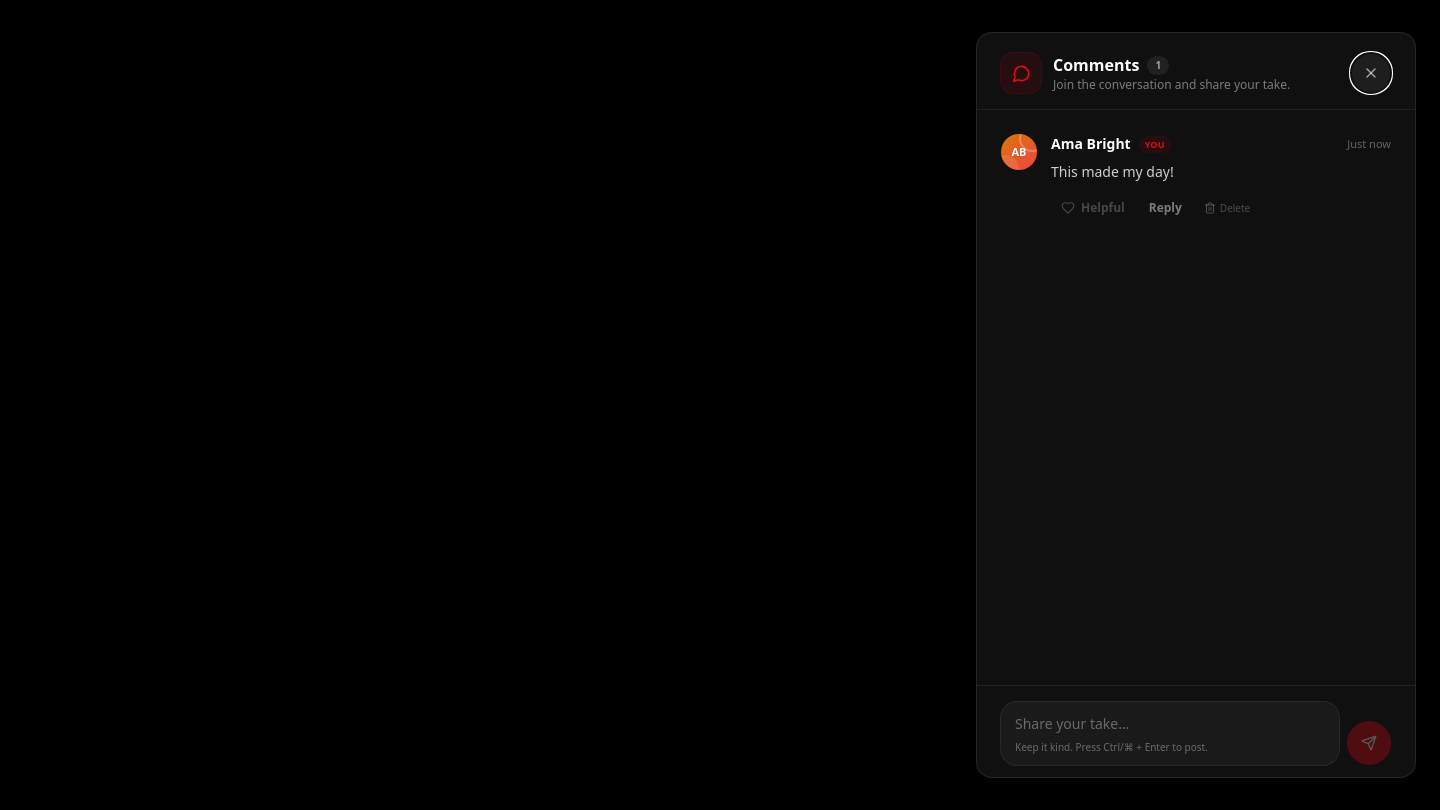
Scenario: CommentsSheet › starts an inline reply with an author mention and allows canceling it
The width and height of the screenshot is (1440, 810).
What coordinates should you click on to do the following:
click the button "Reply"
I would click on:
 (1165, 208)
Its box is [1139,196,1192,220].
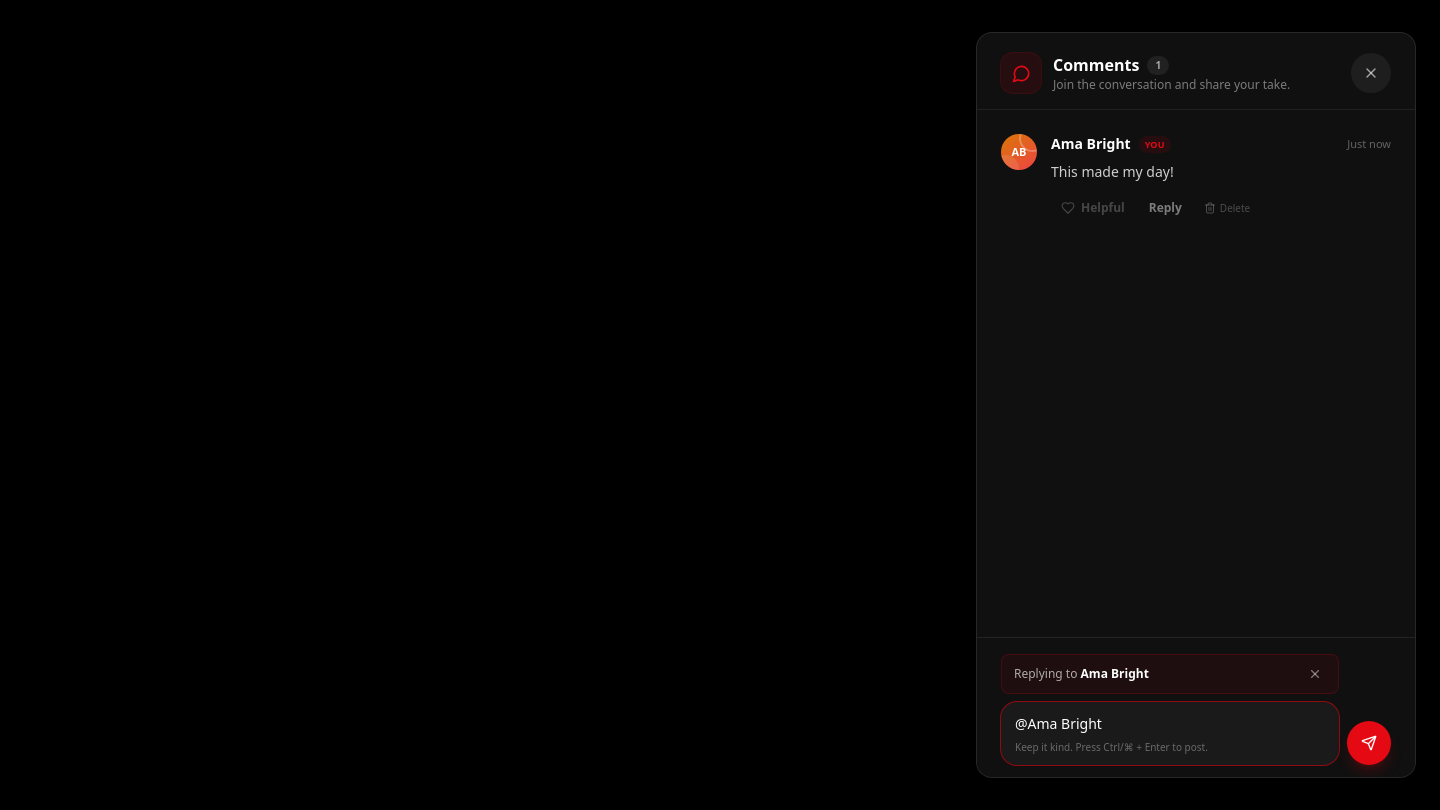
Check: the text "Ama Bright" in the row of "Just now" is shown, box [1051,134,1131,153]
Check: the text "Replying to" is shown, box [1014,665,1081,682]
Check: the text box named "Write a comment" holds "@Ama Bright ", box [1015,712,1325,736]
What coordinates should you click on to do the following:
click the button named "Cancel reply"
I would click on:
 (1315, 674)
Its box is [1304,663,1326,685].
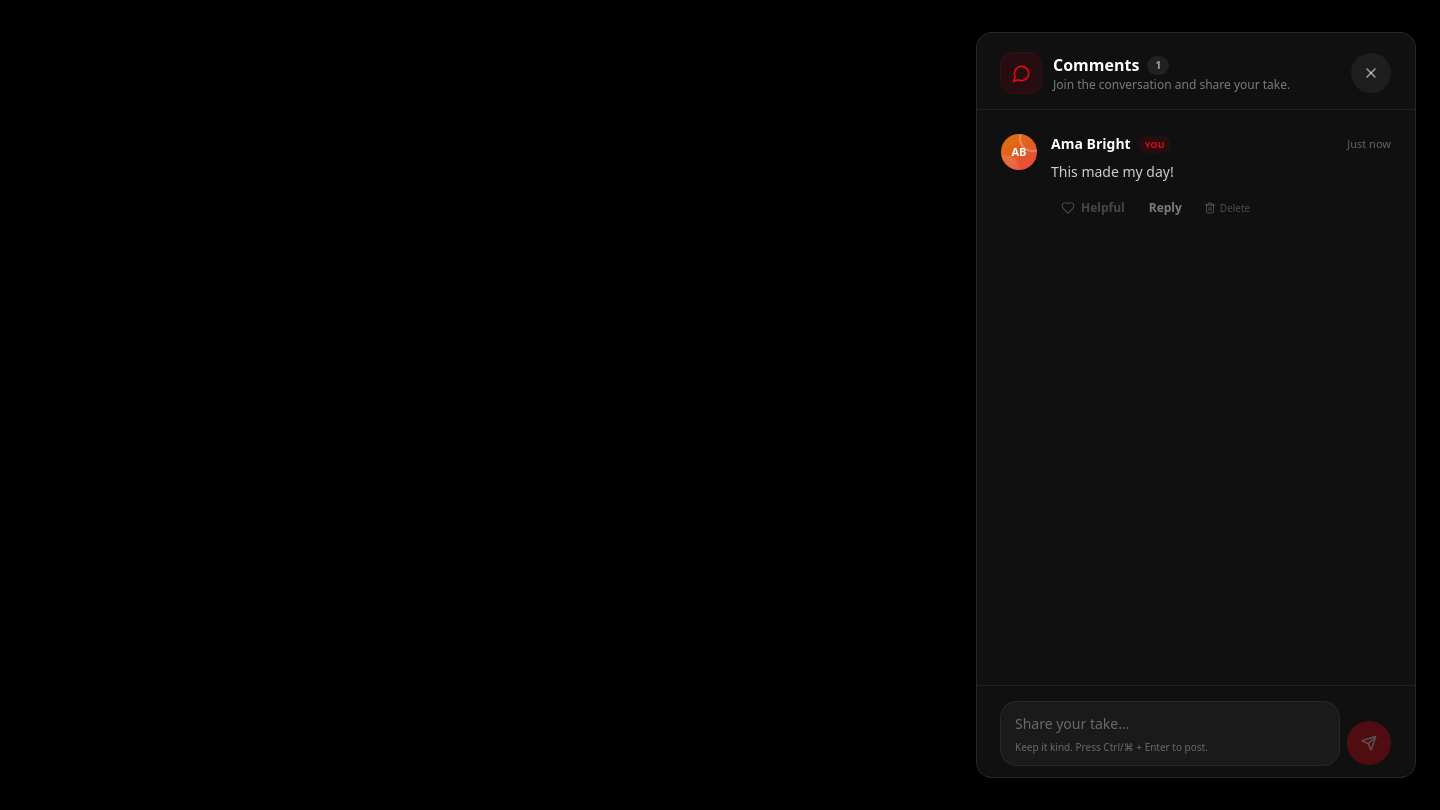
Check: the text "Replying to" is gone
Check: the text box named "Write a comment" is empty, box [1015,712,1325,736]
